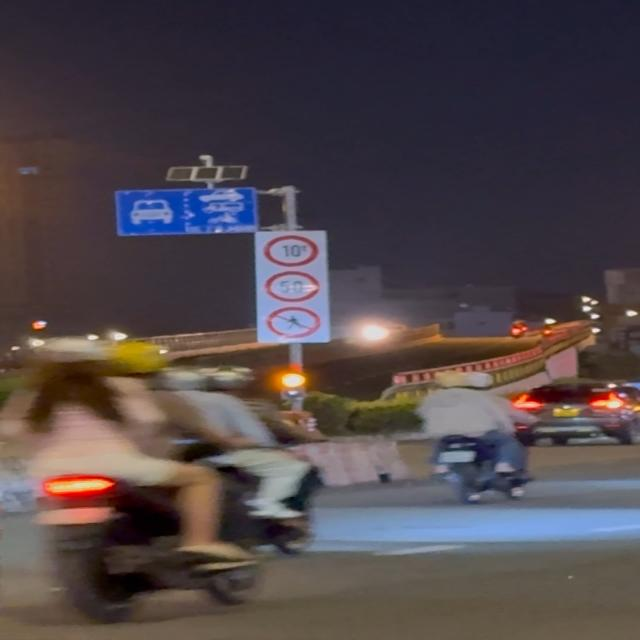Bien bao cam nguoi di bo: (264, 305, 323, 340)
Bien bao toc do toi da cho phep: (263, 269, 321, 303)
